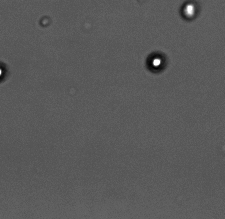Living Cell: (145, 51, 166, 74), (180, 2, 200, 20), (1, 62, 7, 82)
